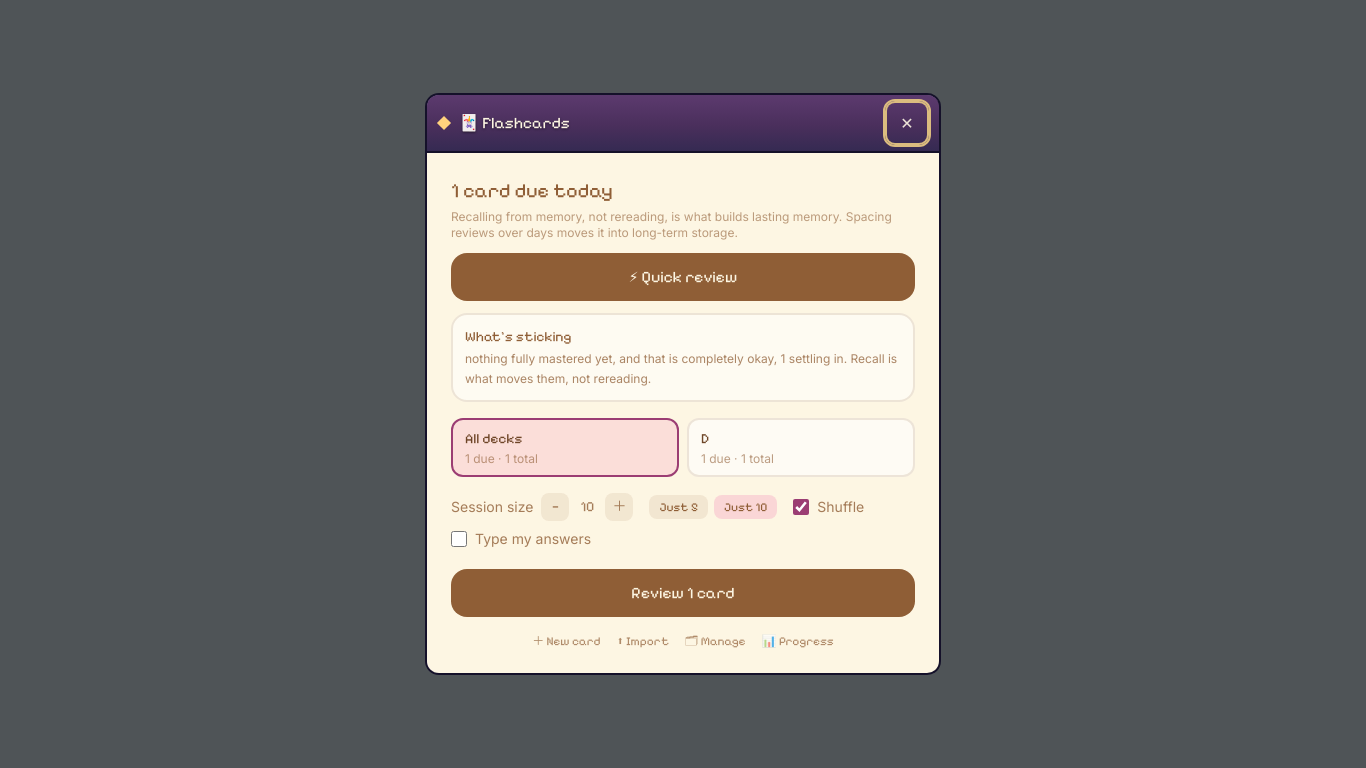
Test: Flashcards — typed recall + cloze (recall depth) › renders a cloze card as a blanked prompt and grades the typed blank
The width and height of the screenshot is (1366, 768).
Click the checkbox labelled "Shuffle" at point(801, 507), box [793,499,809,515]
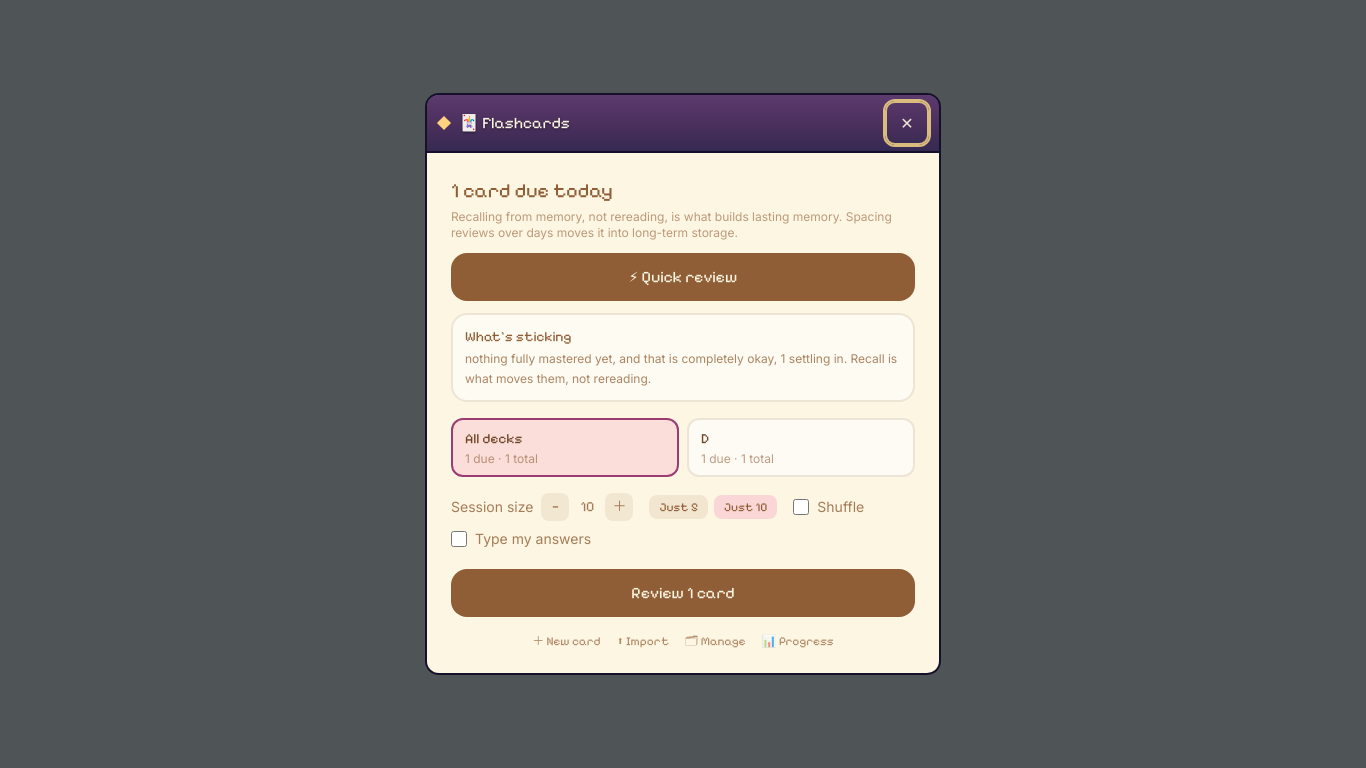
Click the button "Review 1 card" at point(683, 593), box [451,569,915,617]
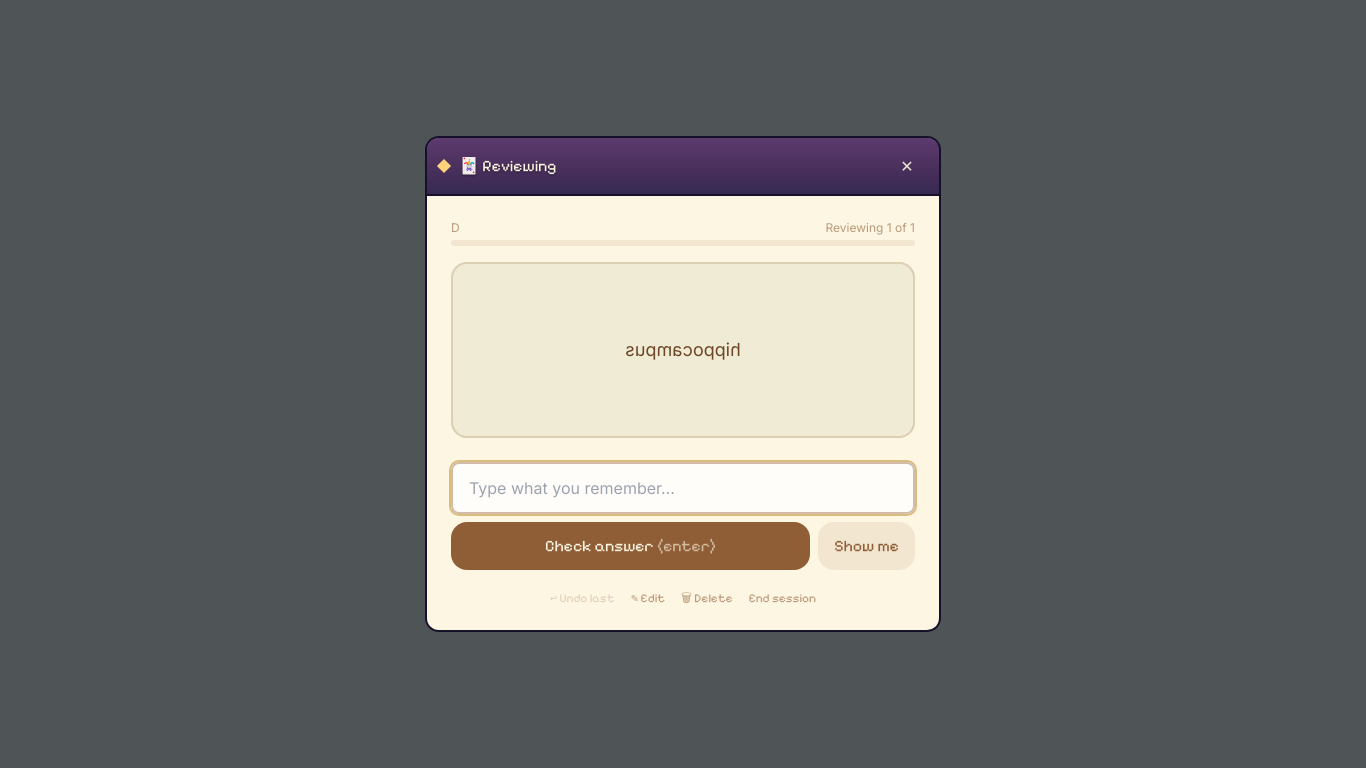
Expected: the text "The [ ____ ] forms memories fill in the blank from memory…" is shown, [564,321,802,379]
Type "hippocampus" into the field named "type your answer" at point(683, 488), box [451,462,915,514]
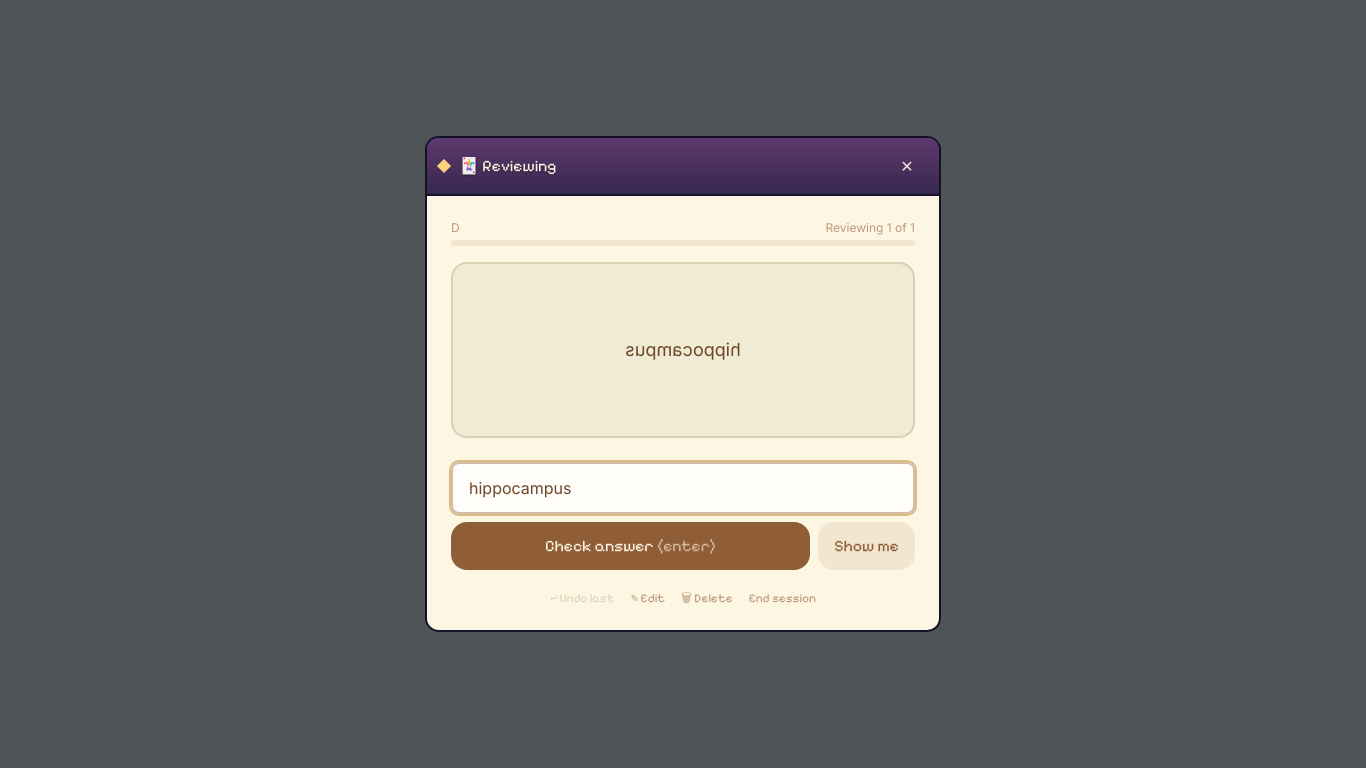
Click the button "Check answer (enter)" at point(631, 546), box [451,522,810,570]
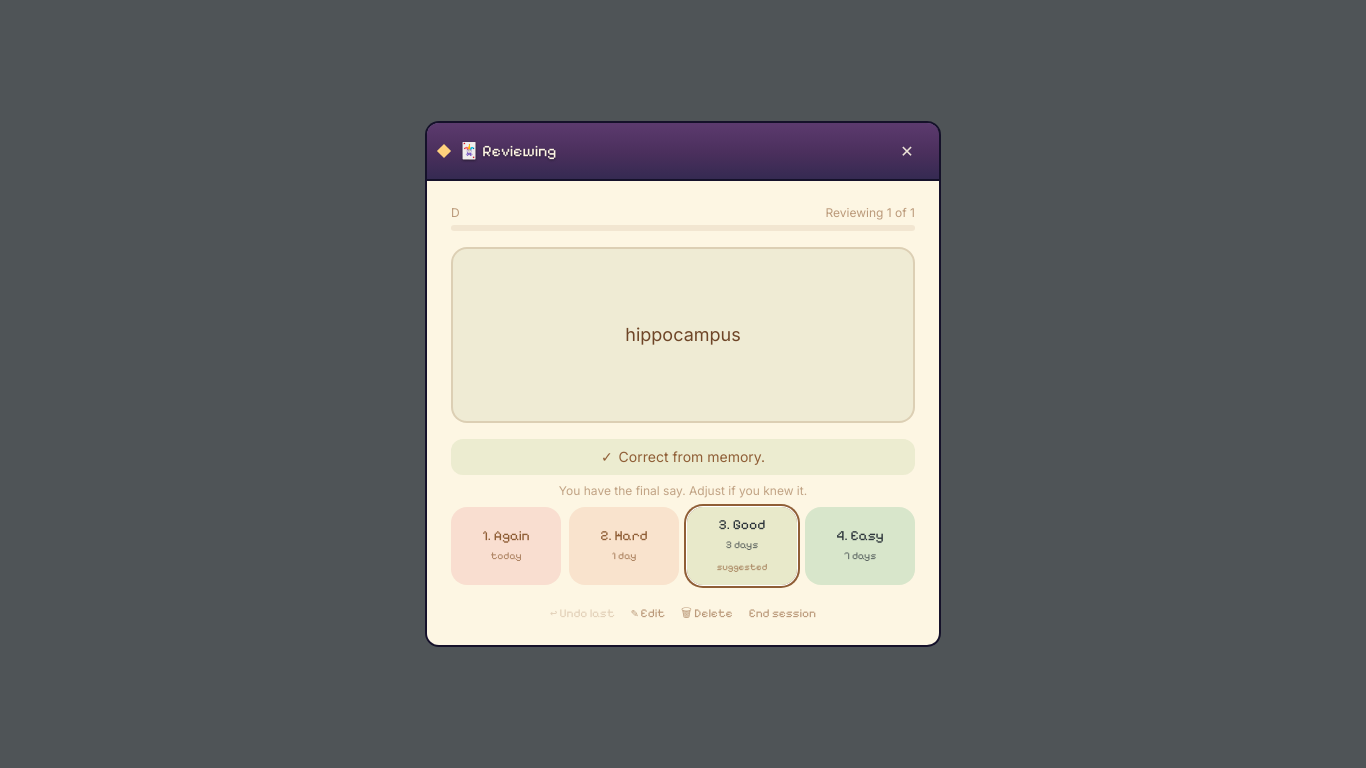
Expected: the text "Correct from memory." is shown, [619,447,765,467]
